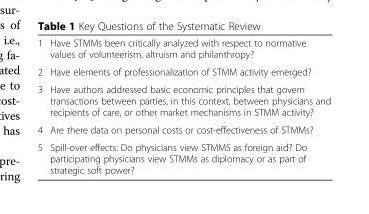table: (36, 36, 330, 175)
table column: (45, 36, 330, 175), (36, 36, 45, 175)
table row: (36, 80, 330, 120), (36, 138, 330, 175), (36, 36, 330, 62), (36, 62, 330, 80), (36, 120, 330, 138)
